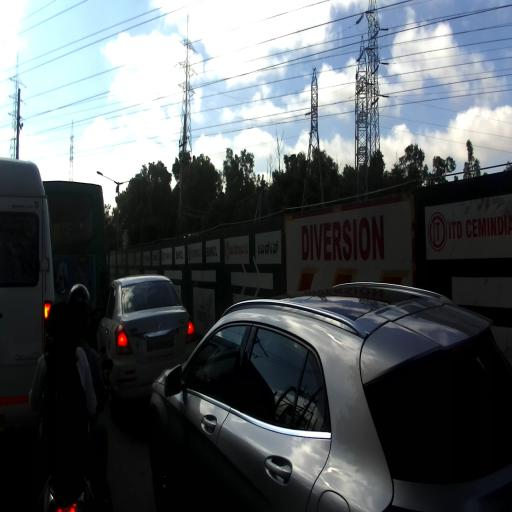street_light_0: (96, 171, 120, 193), (116, 178, 141, 192)
